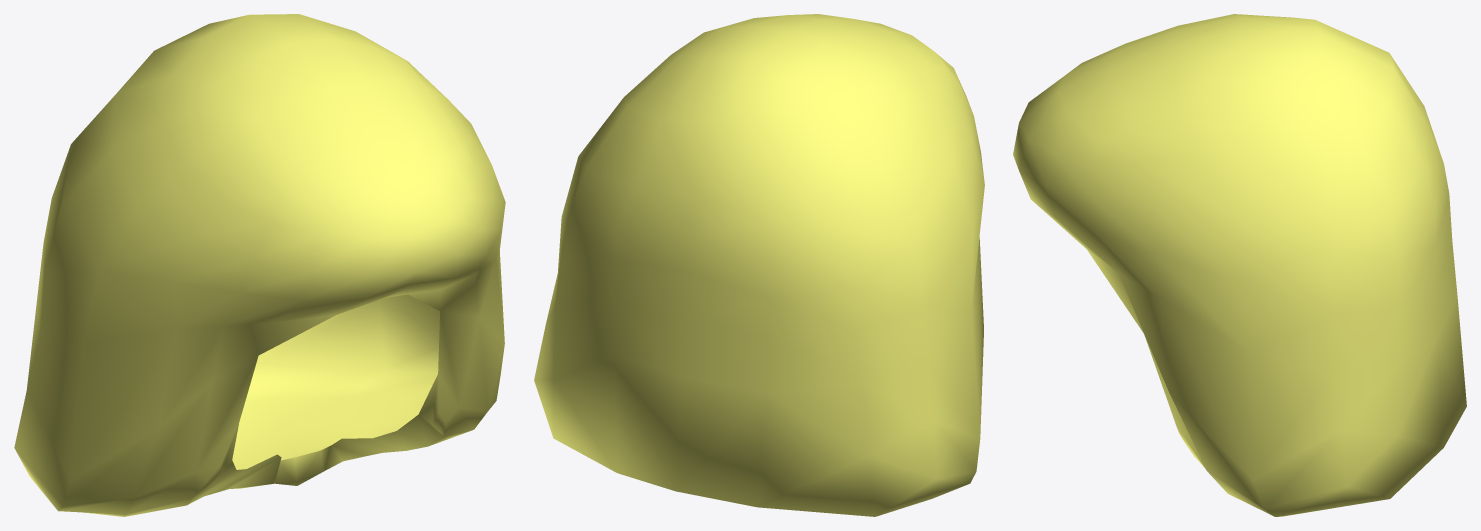
Rendered from NPC_BlondeHair1.gltf.
3 renders of one model, left to right at view 1: azimuth 30°, elevation 25°; view 2: azimuth 150°, elevation 25°; view 3: azimuth 270°, elevation 25°, orthographic. The views are drawn at different scales.
Visible parts, largest first — view 1: NPC_BlondeHair.002; view 2: NPC_BlondeHair.002; view 3: NPC_BlondeHair.002.
Part boxes in pixels (x1=…): NPC_BlondeHair.002: x1=14, y1=14, x2=505, y2=516; NPC_BlondeHair.002: x1=534, y1=14, x2=984, y2=516; NPC_BlondeHair.002: x1=1013, y1=14, x2=1466, y2=516.
Size of the model in its own units: 0.7755 by 0.769 by 0.7601.
Materials: 1 (1 with a texture image).
